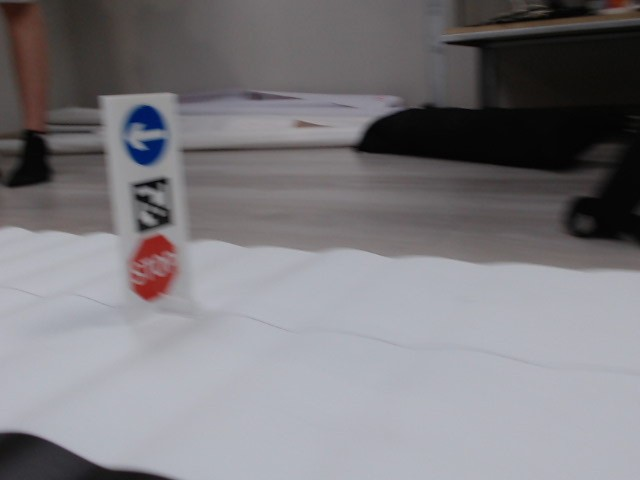Stop: (131, 235, 177, 302)
